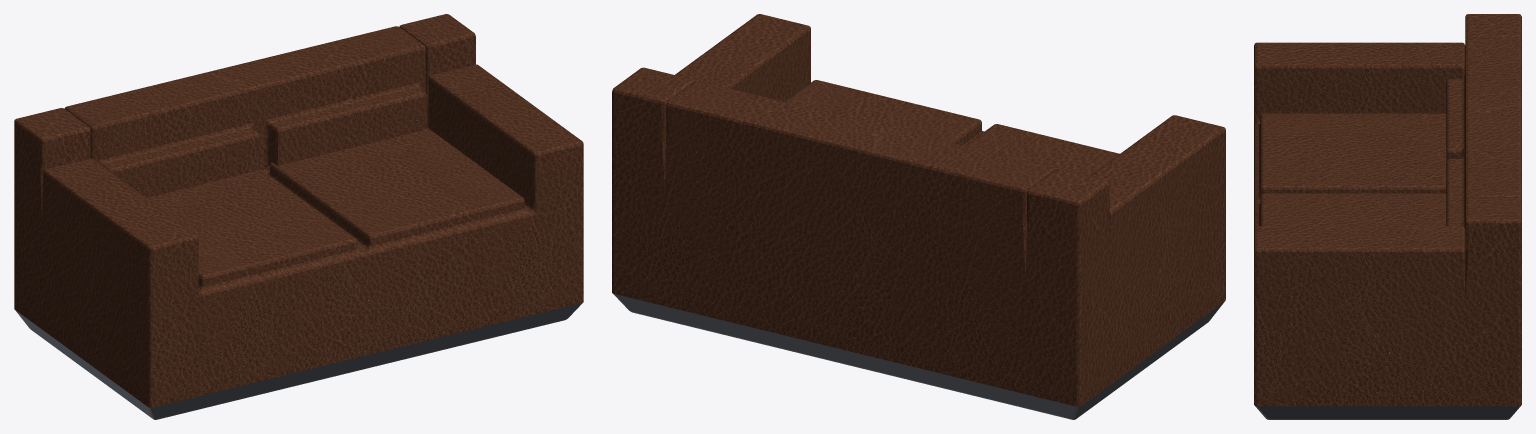
Rendered from sofa_2.glb.
The picture shows the model from 3 angles, left to right: view 1: azimuth 30°, elevation 25°; view 2: azimuth 150°, elevation 25°; view 3: azimuth 270°, elevation 25°; orthographic projection. The views are drawn at different scales.
Parts seen in each view (by area): view 1: Sofa_2; view 2: Sofa_2; view 3: Sofa_2.
Boxes of the visible parts, box(x1,y1,x2,y2) form: Sofa_2: box(14, 14, 583, 419); Sofa_2: box(612, 14, 1225, 419); Sofa_2: box(1254, 14, 1521, 419).
Bounding box in the file's own units: 1.87 × 0.864 × 1.02.
Materials: 2 (1 with a texture image).
